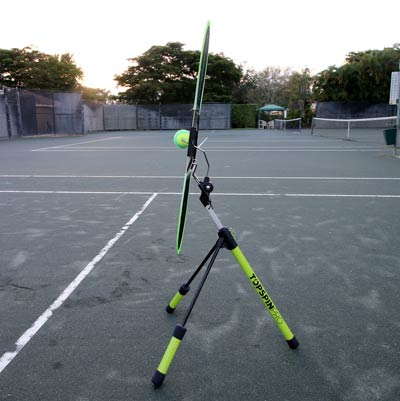tennis_ball: (172, 126, 195, 150)
